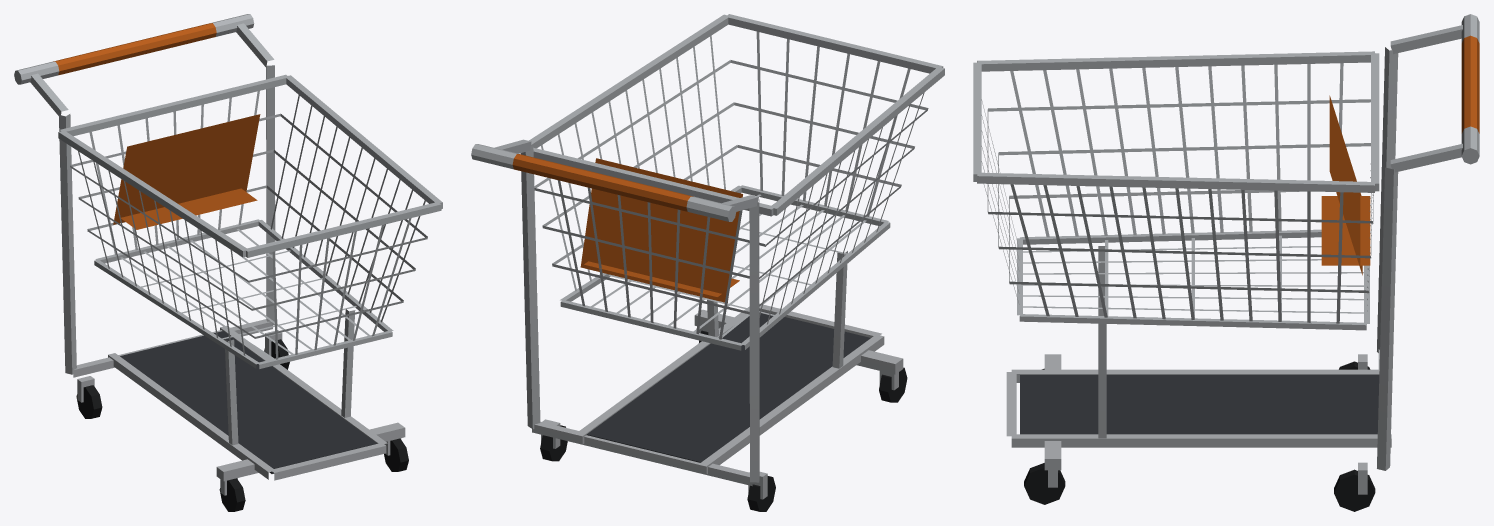
File: shop.cart.orange.glb
3 views of the same model, side by side, from view 1: azimuth 30°, elevation 25°; view 2: azimuth 150°, elevation 25°; view 3: azimuth 270°, elevation 25° (orthographic). The views are drawn at different scales.
Parts seen in each view (by area): view 1: shop_cart_orange; view 2: shop_cart_orange; view 3: shop_cart_orange.
Boxes of the visible parts, x1,y1,x2,y2 form: shop_cart_orange: (14,14,442,511); shop_cart_orange: (471,14,944,511); shop_cart_orange: (973,14,1479,511).
Size of what is drawn, in the model's own units: 0.768 by 1 by 1.23.
